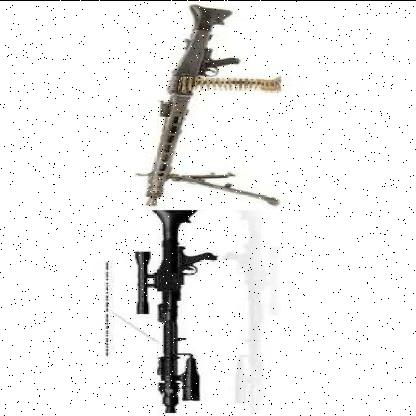rifle: (117, 4, 295, 209), (108, 205, 250, 413)
